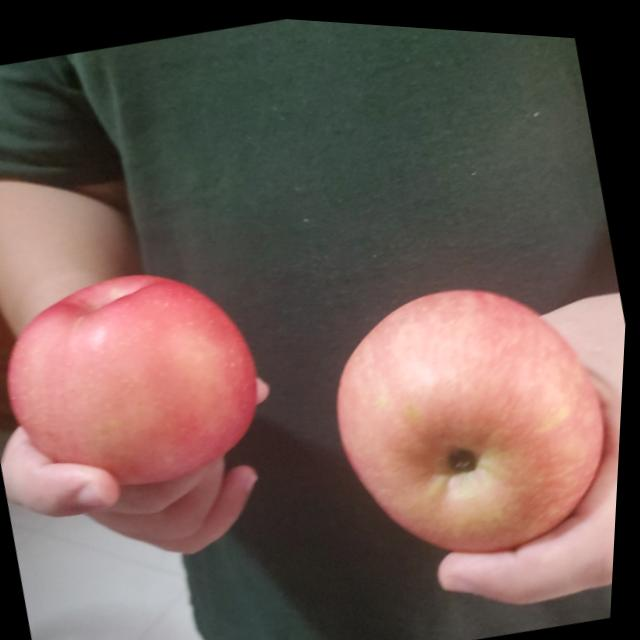apple: (308, 252, 630, 585), (0, 239, 283, 512)
